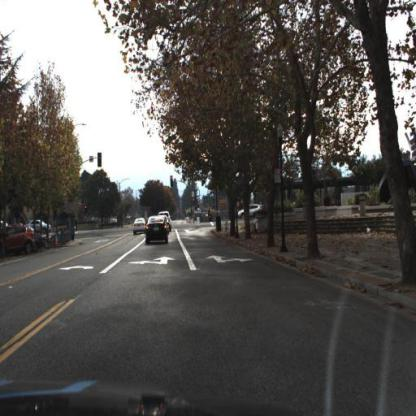car: (1, 223, 36, 256), (4, 226, 35, 253), (145, 214, 171, 246), (236, 201, 266, 223), (27, 219, 53, 237), (29, 220, 53, 238), (238, 205, 265, 220), (134, 217, 151, 238)
trafficLight-Red: (169, 174, 176, 190), (172, 177, 176, 190)
